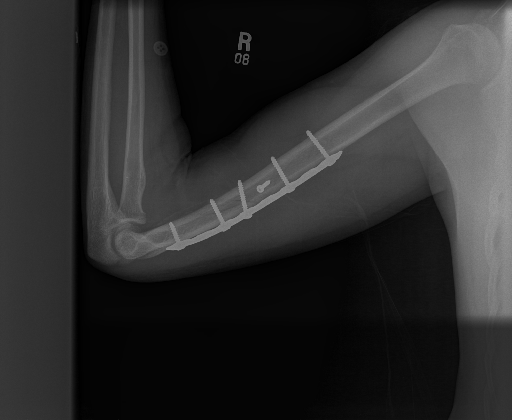implant: (265, 112, 342, 202), (166, 171, 248, 253)
